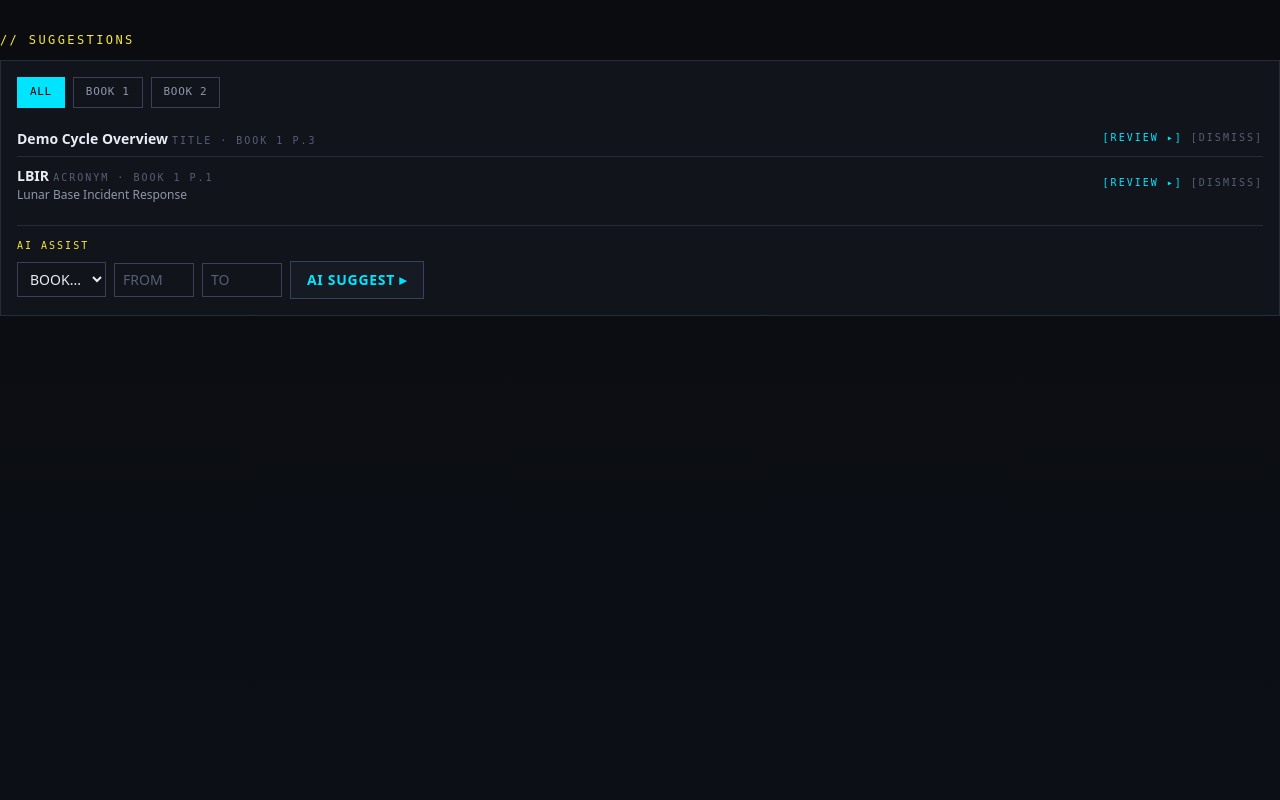
Scenario: review opens the capture dialog prefilled for explicit approval
The image size is (1280, 800).
Check: the text "LBIR" is shown, box [17,166,49,184]
Click the button "[REVIEW ▸]" in the row of "LBIR".
click(1143, 182)  # box [1103,175,1183,190]
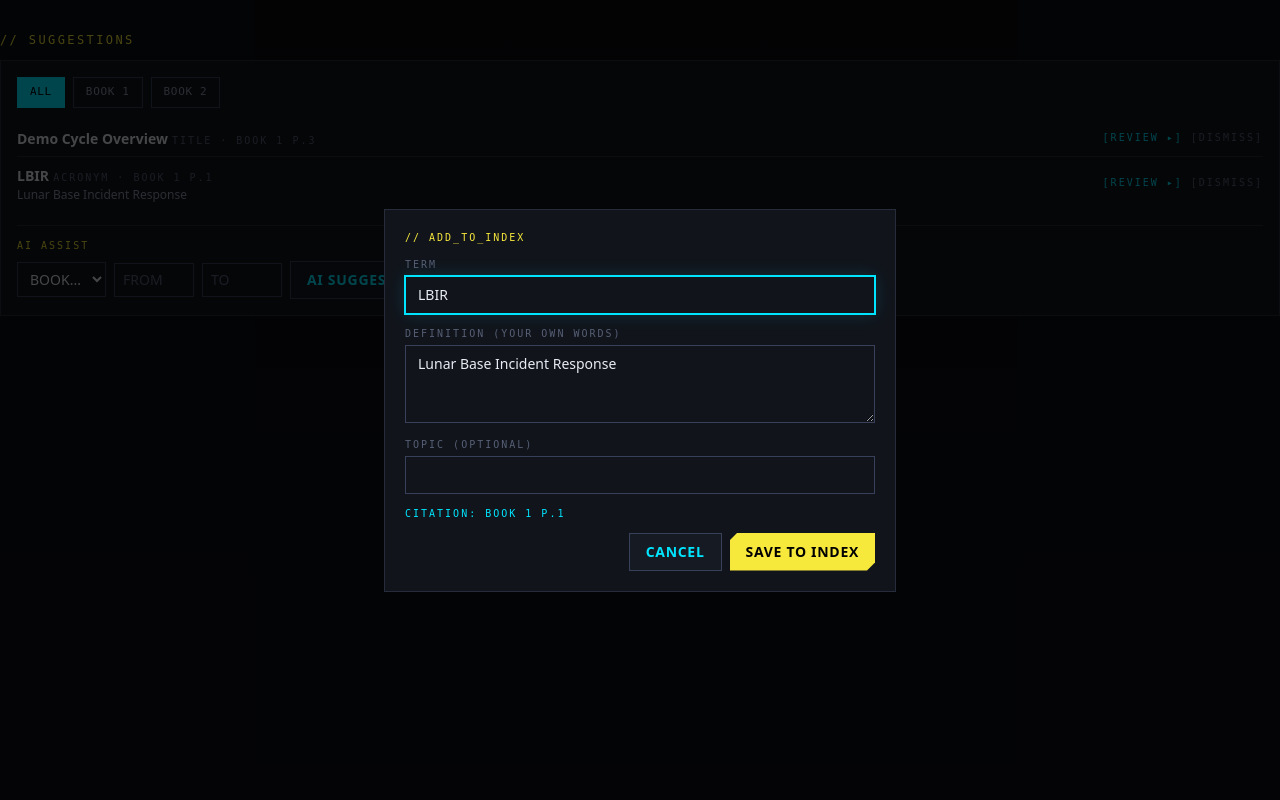
Check: the dialog named "add to index" is shown
Check: the field labelled "TERM" holds "LBIR", box [405,276,875,314]
Check: the text box labelled "DEFINITION (YOUR OWN WORDS)" holds "Lunar Base Incident Response", box [405,344,875,422]
